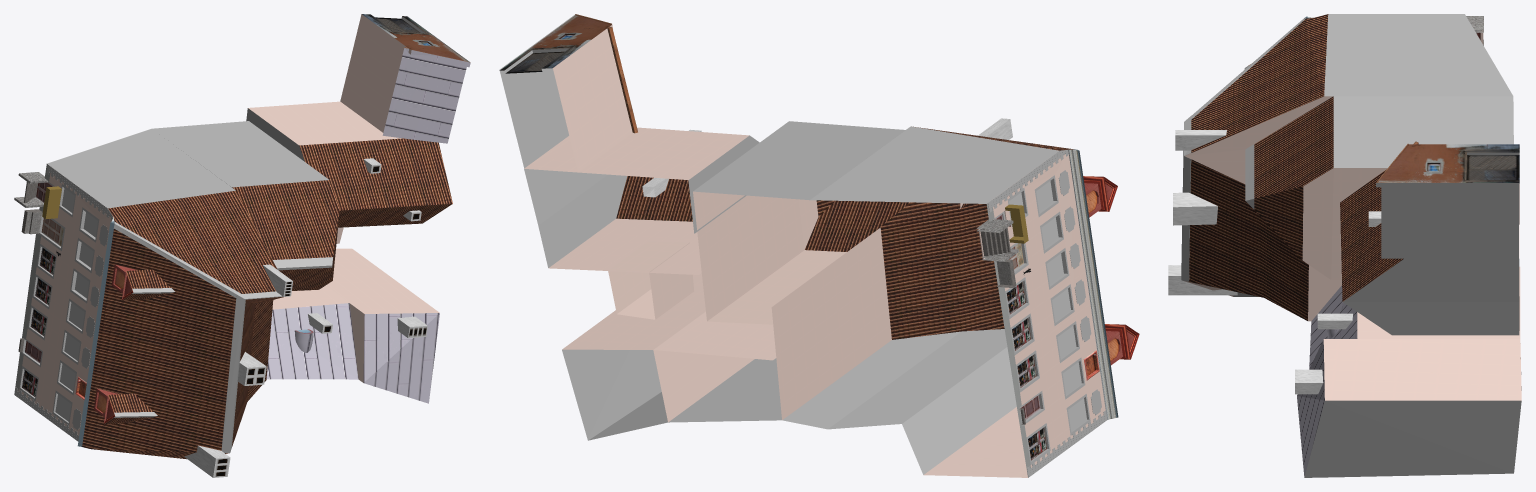
The model's file is Raekoja-Plats-13.obj.
The picture shows the model from 3 angles, left to right: view 1: azimuth 30°, elevation 25°; view 2: azimuth 150°, elevation 25°; view 3: azimuth 270°, elevation 25°; orthographic projection. The views are drawn at different scales.
Parts seen in each view (by area): view 1: Raekoja_Plats_13; view 2: Raekoja_Plats_13; view 3: Raekoja_Plats_13.
Boxes of the visible parts, x1=… form: Raekoja_Plats_13: x1=14, y1=14, x2=470, y2=477; Raekoja_Plats_13: x1=499, y1=14, x2=1139, y2=477; Raekoja_Plats_13: x1=1168, y1=14, x2=1521, y2=477.
Size of the model in its own units: 33.22 by 23.46 by 21.44.
